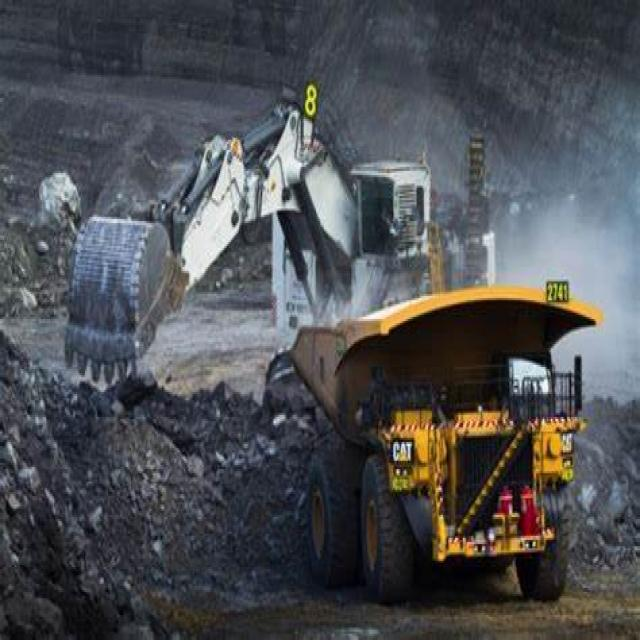dump_truck: (294, 271, 592, 602)
